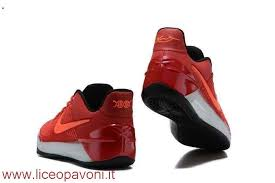nike: (53, 115, 91, 136)
